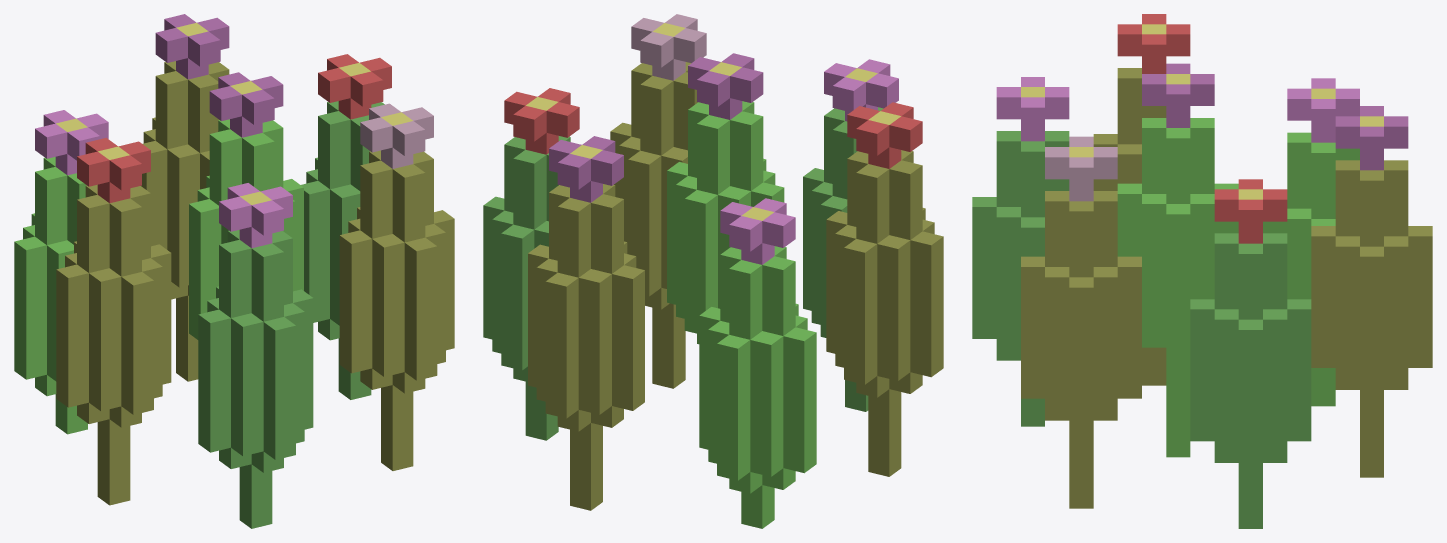
Rendered from Grass_a_v1.fbx.
3 views of the same model, side by side, from view 1: azimuth 30°, elevation 25°; view 2: azimuth 150°, elevation 25°; view 3: azimuth 270°, elevation 25° (orthographic).
Parts seen in each view (by area): view 1: minecraft:Mesh; view 2: minecraft:Mesh; view 3: minecraft:Mesh.
Boxes of the visible parts, x1,y1,x2,y2 form: minecraft:Mesh: (14, 14, 454, 528); minecraft:Mesh: (483, 14, 943, 528); minecraft:Mesh: (972, 14, 1432, 528).
Bounding box in the file's own units: 19 × 17 × 19.
